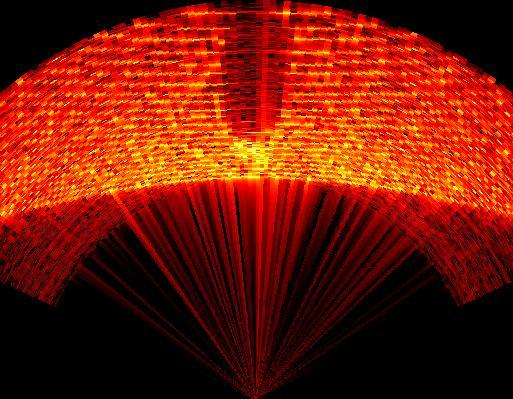box_crate: (220, 7, 291, 144)
